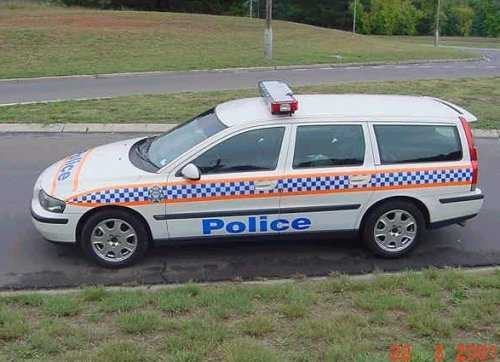Police Car: (29, 93, 487, 255)
